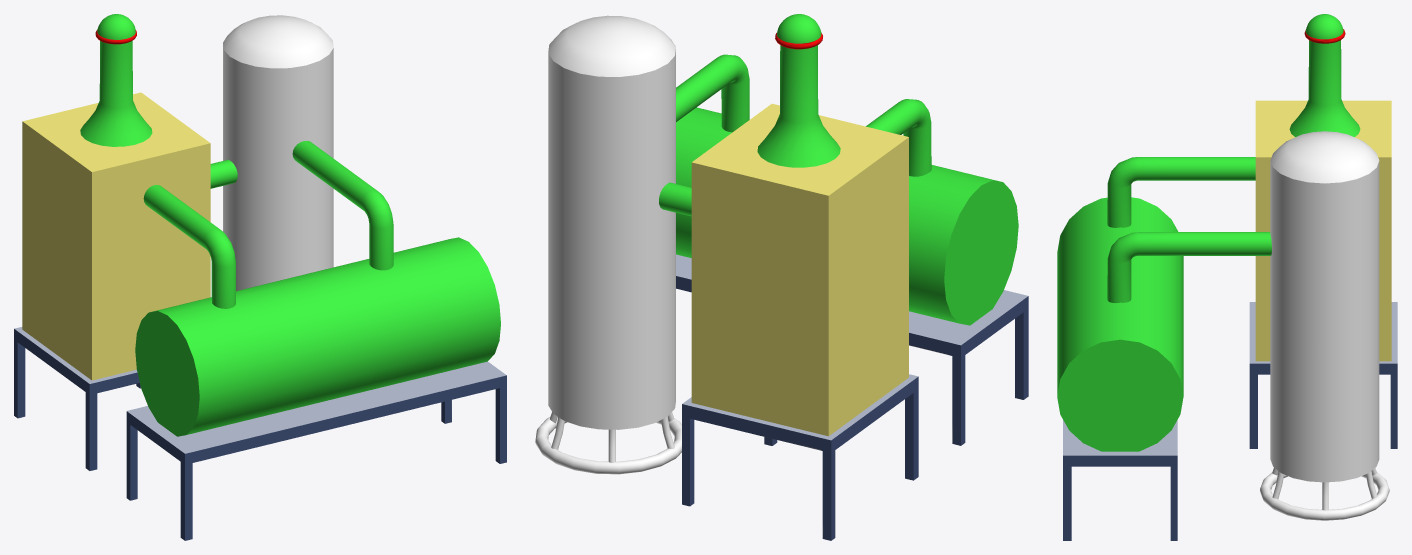
The model's file is BiodegradableFactory_stage1.fbx.
3 renders of one model, left to right at view 1: azimuth 30°, elevation 25°; view 2: azimuth 150°, elevation 25°; view 3: azimuth 270°, elevation 25°, orthographic. The views are drawn at different scales.
Visible parts, largest first — view 1: polySurface49; view 2: polySurface49; view 3: polySurface49.
Part boxes in pixels (x1=…): polySurface49: x1=14, y1=14, x2=506, y2=540; polySurface49: x1=535, y1=14, x2=1028, y2=540; polySurface49: x1=1057, y1=14, x2=1397, y2=540.
Bounding box in the file's own units: 33.41 × 40.83 × 31.3.
5 materials, 5 textured.
